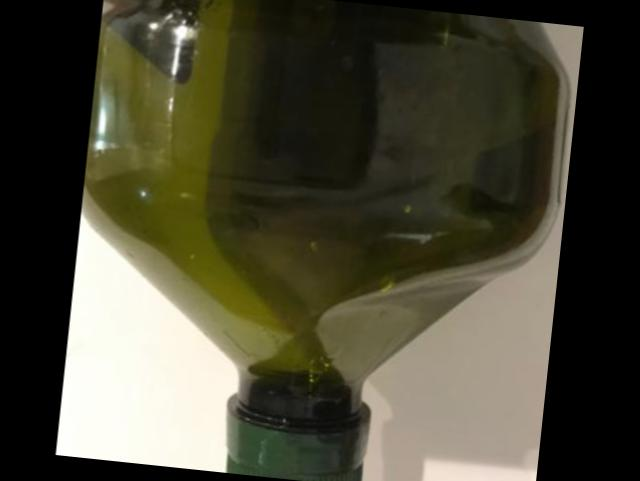plastic: (83, 0, 571, 481)
